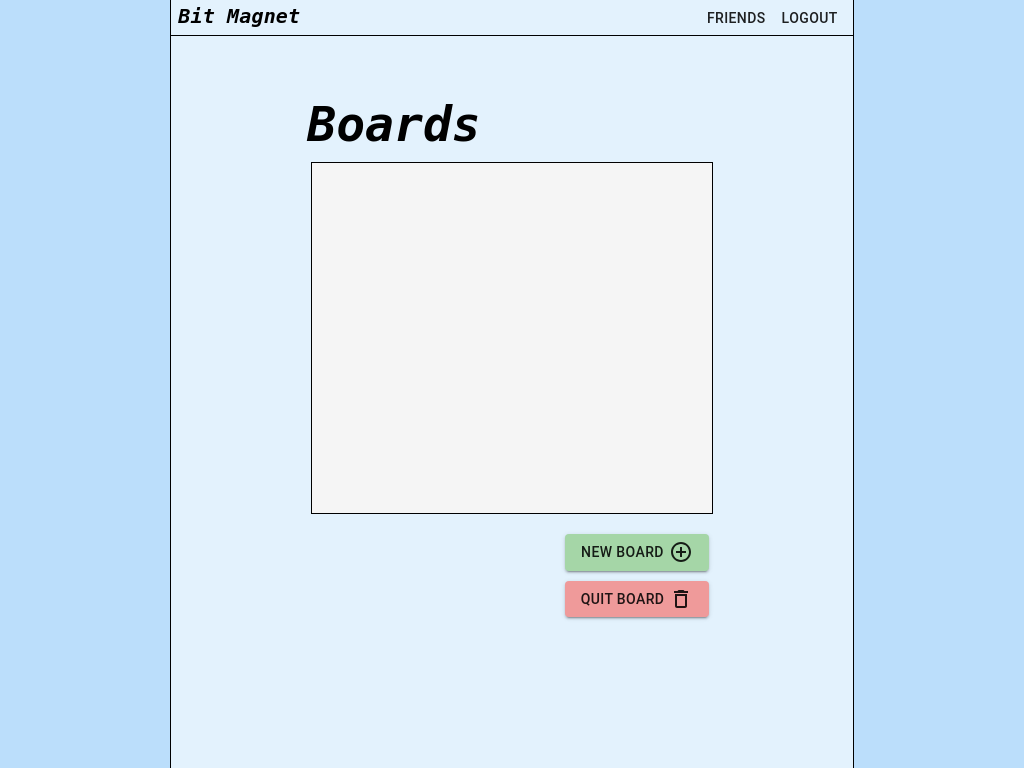
Test: has a quit button with popup that opens and closes
Click the button with test id "quitBoardBtn". click: (637, 599)
box: [565,580,709,617]
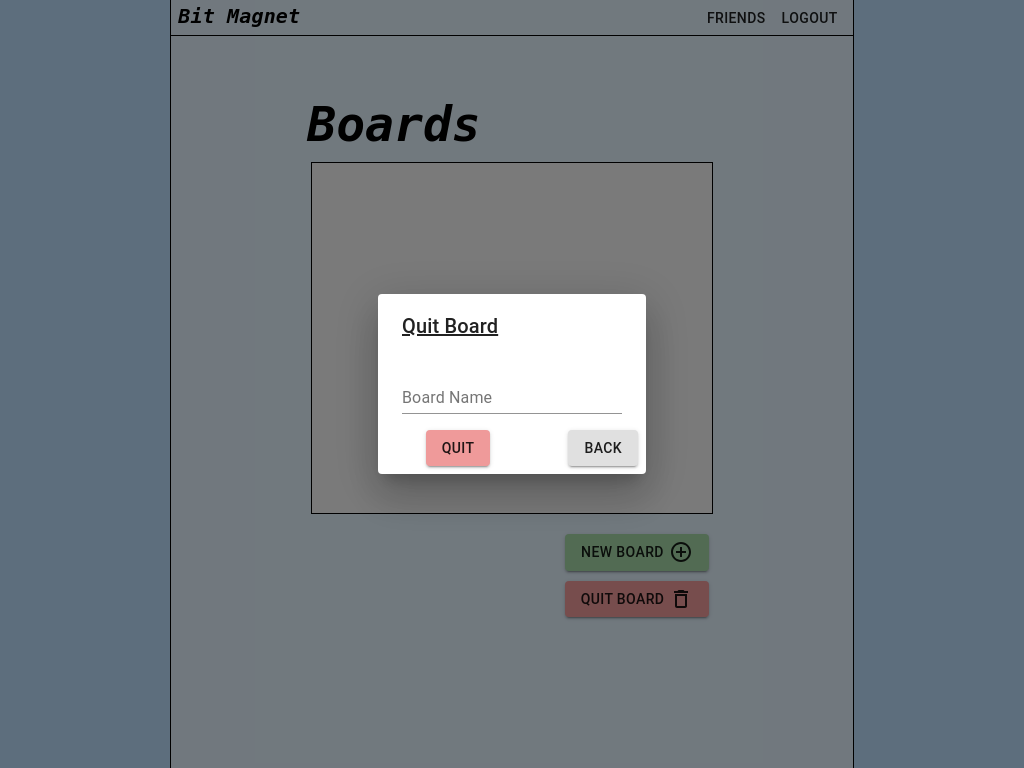
Result: the element with test id "deleteBoardPopup" is shown at [402,314,498,338]
Result: the button with test id "boardDeleteCancel" is shown
Click the button with test id "boardDeleteCancel". click: (603, 448)
box: [568,430,638,466]
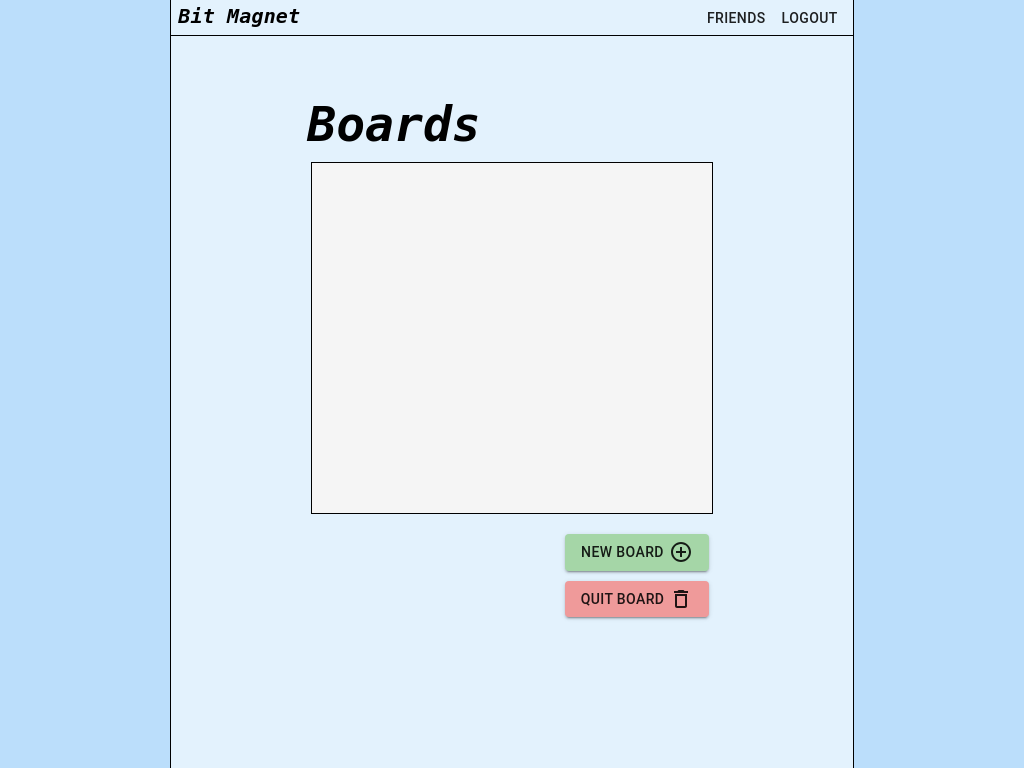
Result: the element with test id "deleteBoardPopup" is gone
